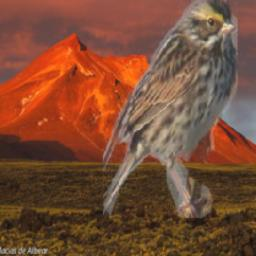Sparrow: (103, 0, 238, 219)
